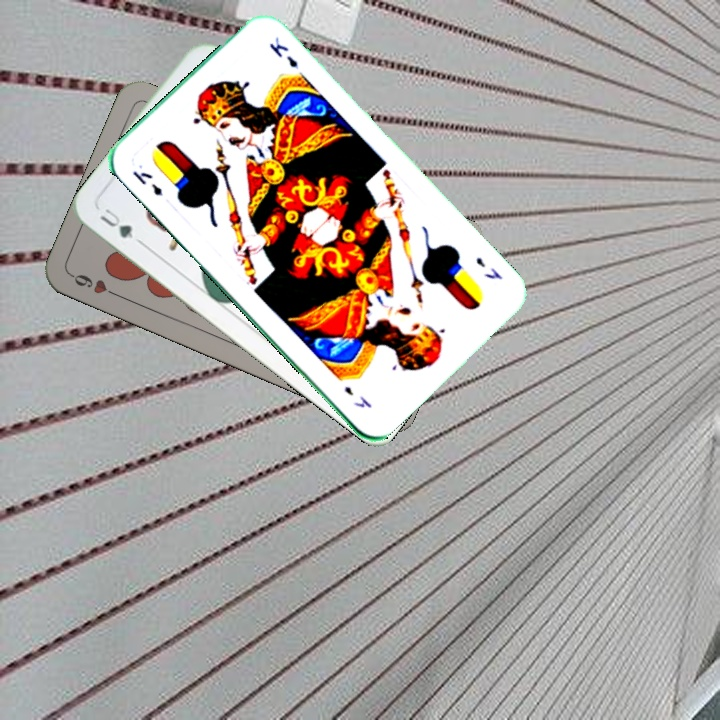EK: (128, 166, 165, 199), (471, 252, 505, 283)
GU: (96, 204, 137, 241)
H9: (67, 270, 123, 300)
